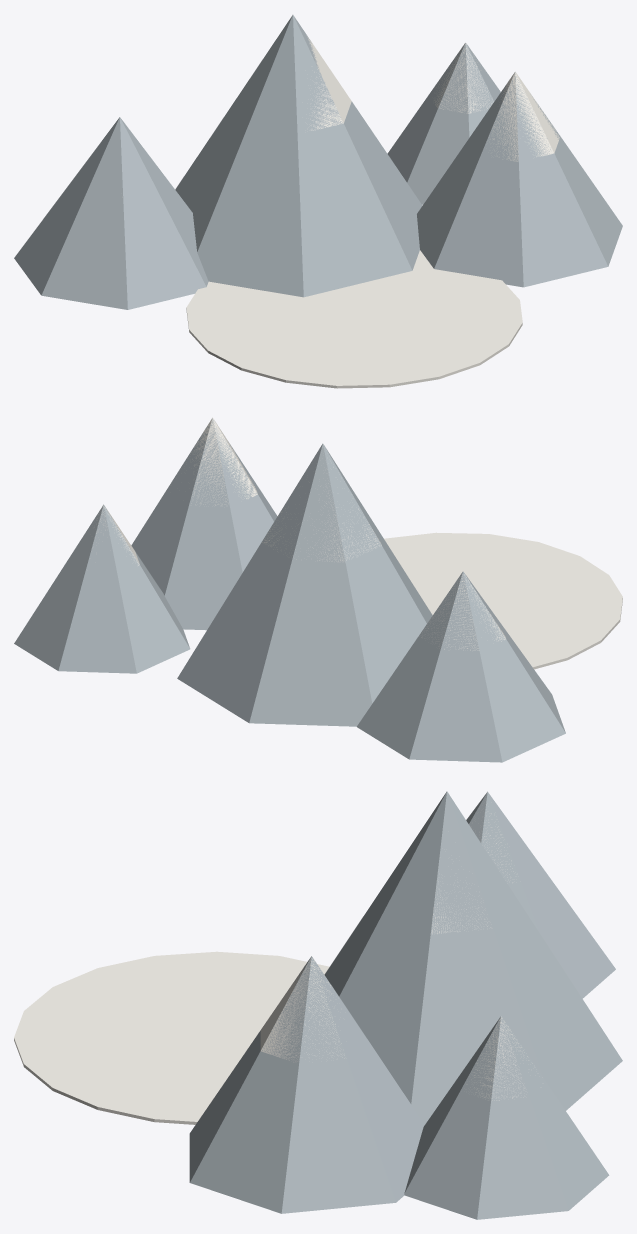
File: m_mountains.gltf
3 renders of one model, top to bottom at view 1: azimuth 30°, elevation 25°; view 2: azimuth 150°, elevation 25°; view 3: azimuth 270°, elevation 25°, orthographic. The views are drawn at different scales.
Visible parts, largest first — view 1: m_mountains; view 2: m_mountains; view 3: m_mountains.
Part boxes in pixels (bbox=[...]): m_mountains: bbox=[14, 15, 622, 388]; m_mountains: bbox=[14, 417, 622, 762]; m_mountains: bbox=[14, 791, 622, 1219].
Size of the model in its own units: 10.61 by 4.4 by 9.
Materials: 1 (1 with a texture image).
